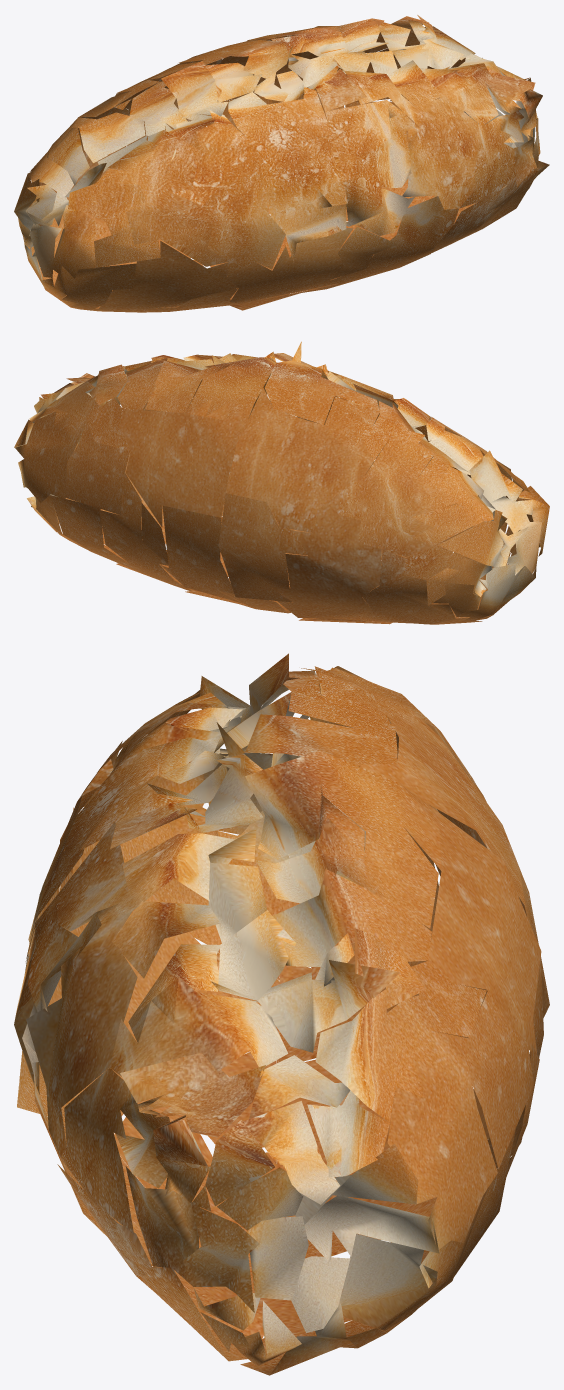
The model's file is mdl_ra4_pan.fbx.
The picture shows the model from 3 angles, top to bottom: view 1: azimuth 30°, elevation 25°; view 2: azimuth 150°, elevation 25°; view 3: azimuth 270°, elevation 25°; orthographic projection. The views are drawn at different scales.
Visible parts, largest first — view 1: SM_pan; view 2: SM_pan; view 3: SM_pan.
Boxes of the visible parts, x1,y1,x2,y2 form: SM_pan: (14,15,549,312); SM_pan: (14,341,549,624); SM_pan: (14,653,549,1375).
Bounding box in the file's own units: 0.1282 × 0.0618 × 0.0609.
